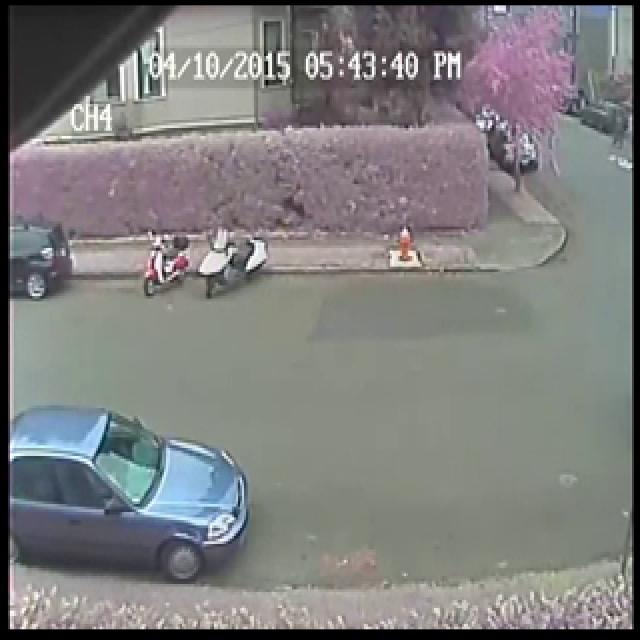vandalism: (90, 152, 384, 500)
